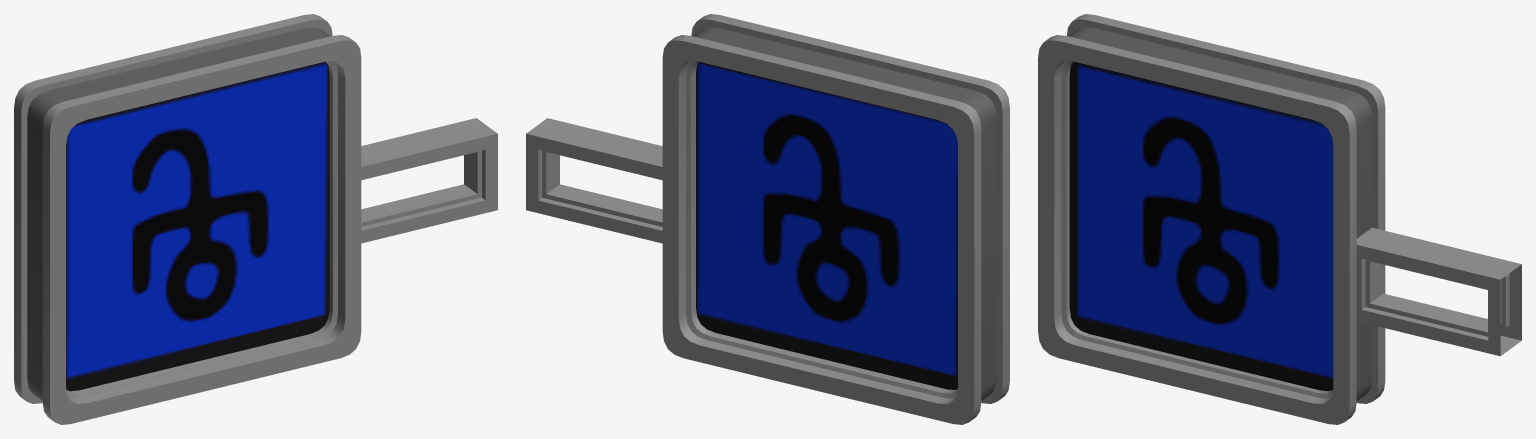
3 views of the same model, side by side, from view 1: azimuth 30°, elevation 25°; view 2: azimuth 150°, elevation 25°; view 3: azimuth 330°, elevation 25° (orthographic).
Visible parts, largest first — view 1: MS_1M_4; view 2: MS_1M_4; view 3: MS_1M_4.
Part boxes in pixels (box(x1,y1,x2,y2)): MS_1M_4: box(14, 14, 497, 424); MS_1M_4: box(526, 14, 1009, 424); MS_1M_4: box(1038, 14, 1521, 424).
Bounding box in the file's own units: 146 × 97.51 × 19.93.
